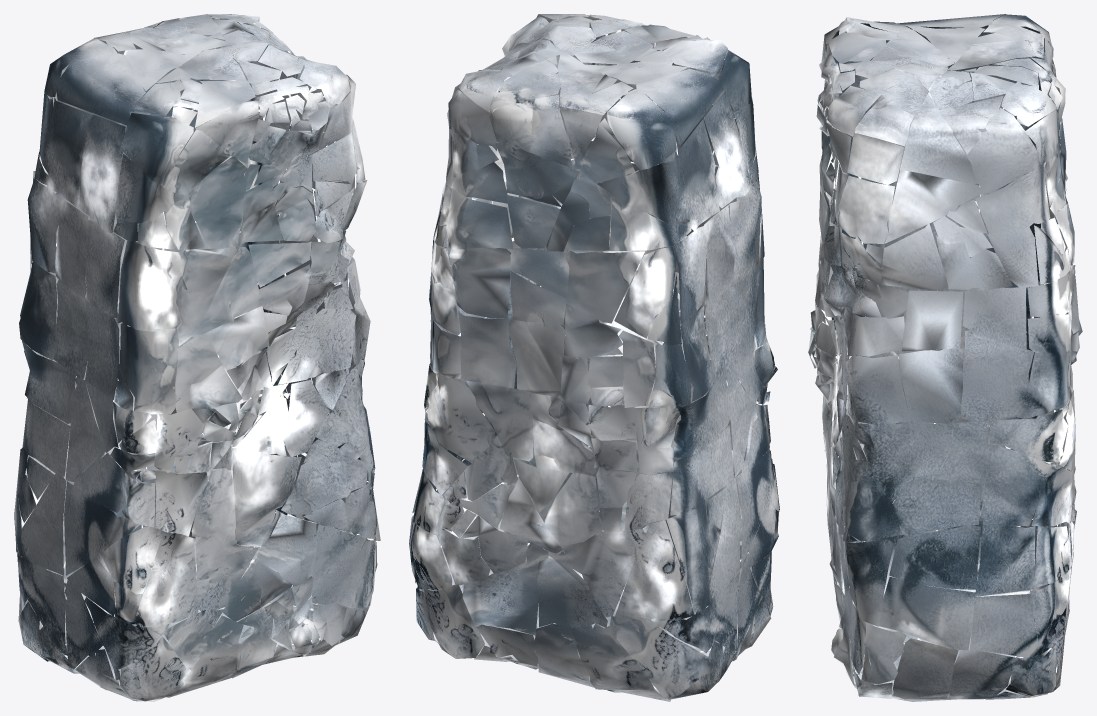
Rendered from WallA.glb.
3 renders of one model, left to right at view 1: azimuth 30°, elevation 25°; view 2: azimuth 150°, elevation 25°; view 3: azimuth 270°, elevation 25°, orthographic.
Visible parts, largest first — view 1: Mesh_0; view 2: Mesh_0; view 3: Mesh_0.
Boxes of the visible parts, x1,y1,x2,y2 form: Mesh_0: (14,14,380,701); Mesh_0: (409,14,779,701); Mesh_0: (808,14,1082,701).
Bounding box in the file's own units: 0.99 × 1.9 × 0.7791.
1 material, 1 textured.
